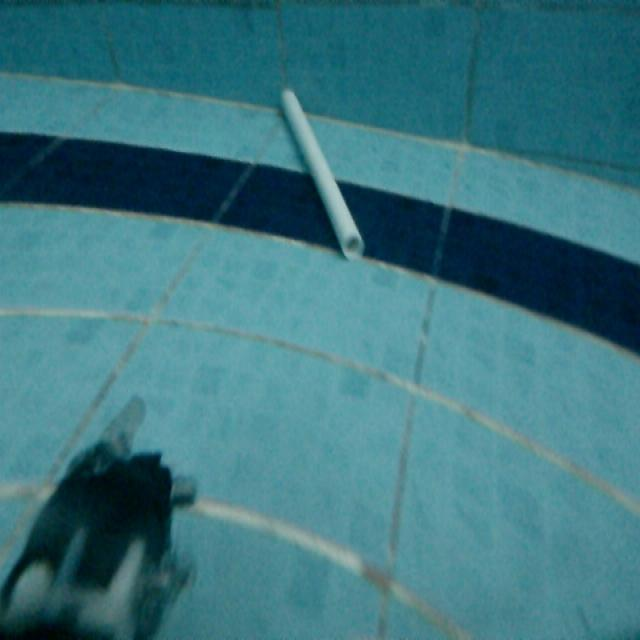Cube: (274, 80, 370, 263)
